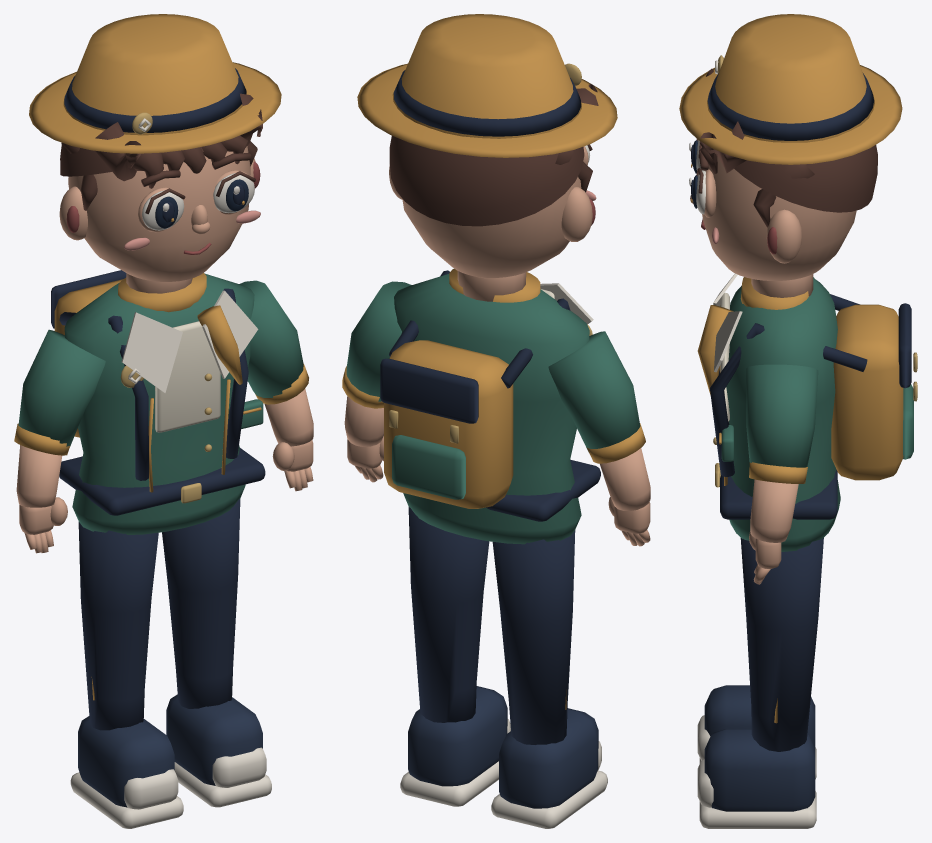
File: blocky_character_a.glb
3 renders of one model, left to right at view 1: azimuth 30°, elevation 25°; view 2: azimuth 150°, elevation 25°; view 3: azimuth 270°, elevation 25°, orthographic. The views are drawn at different scales.
Parts seen in each view (by area): view 1: figure; view 2: figure; view 3: figure.
Boxes of the visible parts, bbox=[...] form: figure: bbox=[14, 14, 313, 828]; figure: bbox=[342, 14, 650, 828]; figure: bbox=[679, 14, 917, 828].
Bounding box in the file's own units: 1.02 × 2.5 × 0.7132.
